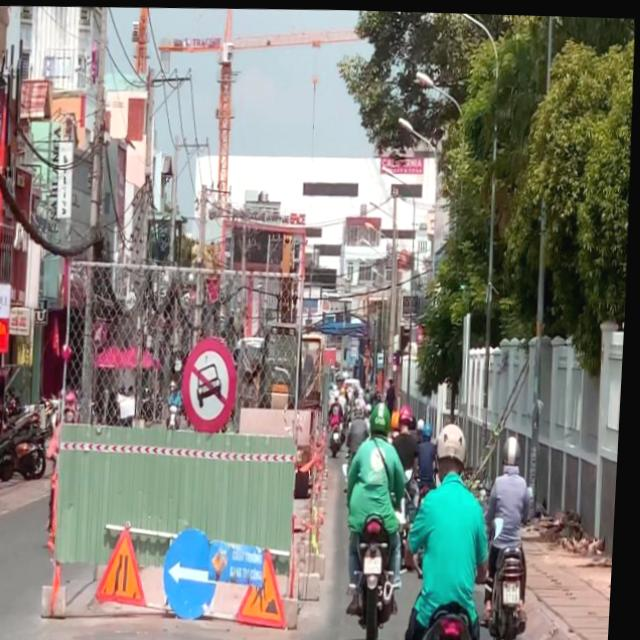Cac xe chi duoc re trai: (166, 525, 227, 619)
Cam xe oto: (182, 334, 244, 433)
